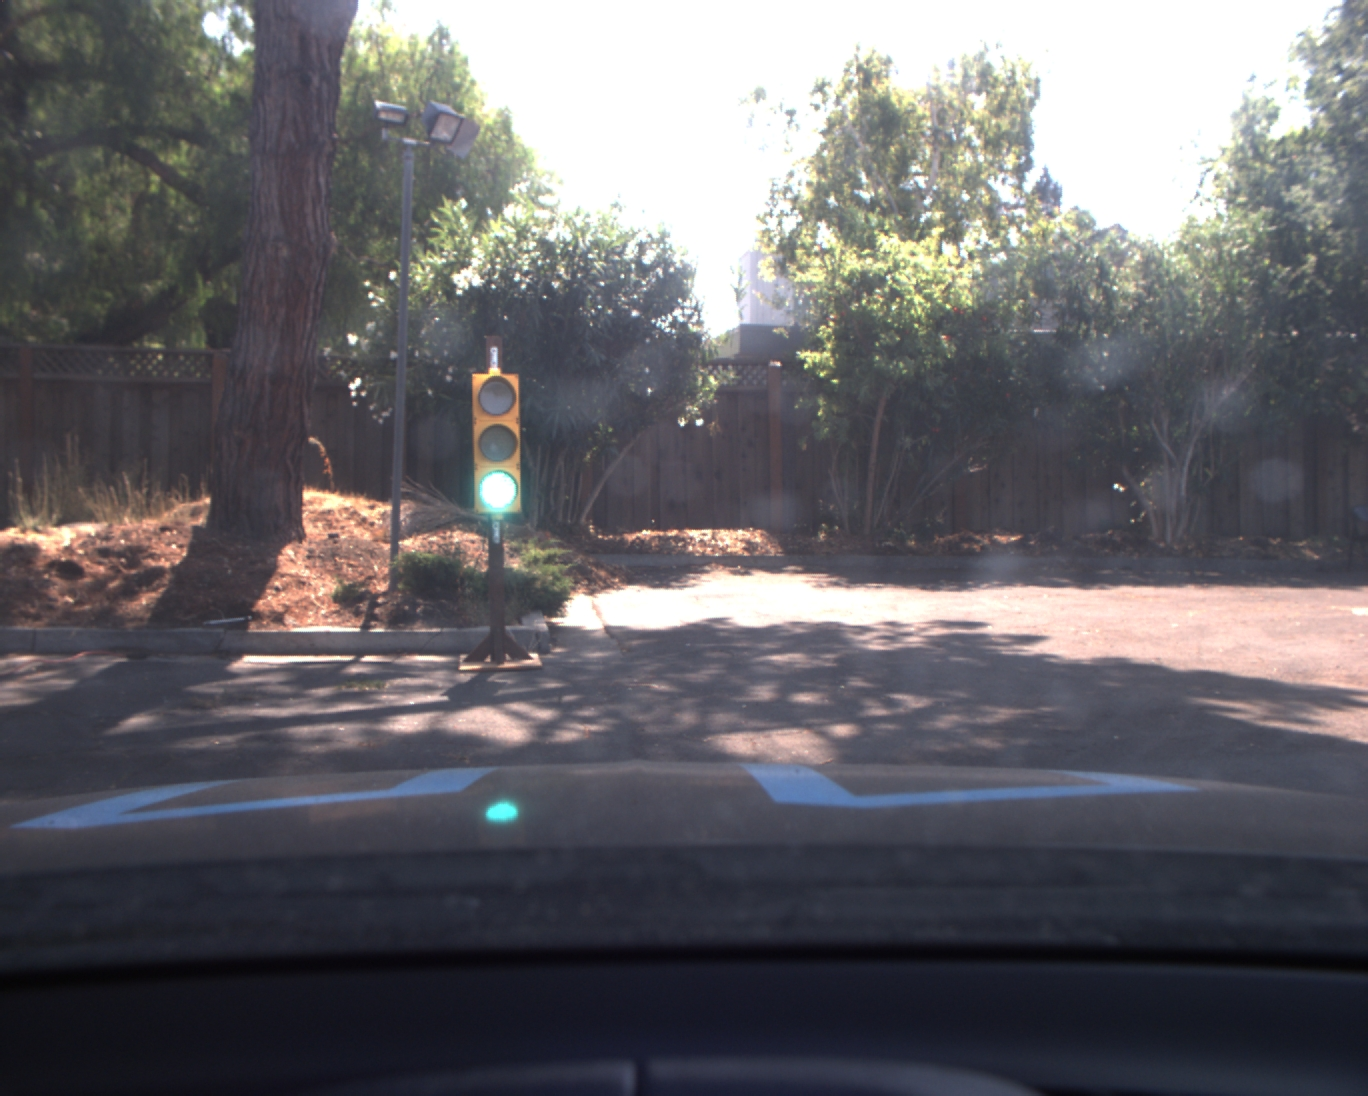green: (471, 375, 528, 518)
